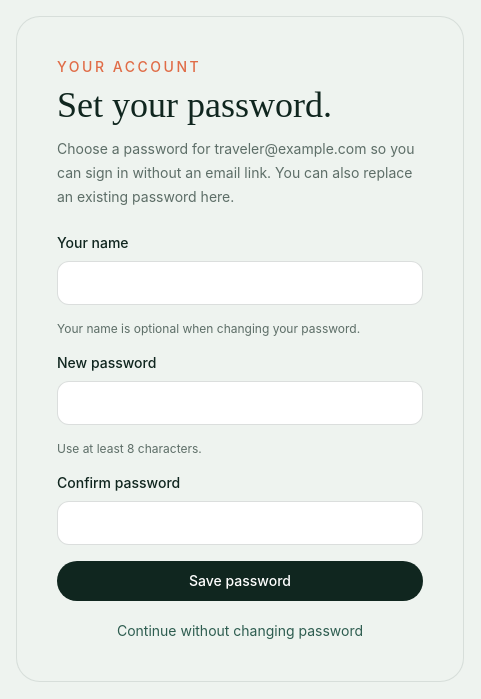
Test: saves matching passwords and offers the requested destination
The width and height of the screenshot is (481, 699).
Step 1. Type "Alex" into the field labelled "Your name" → (240, 283), box [57,261,423,305]
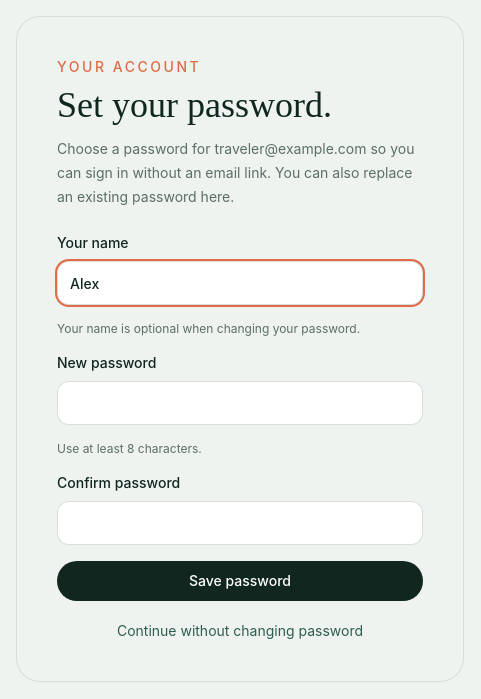
Step 2. Type "password123" into the password field labelled "New password" → (240, 403), box [57,381,423,425]
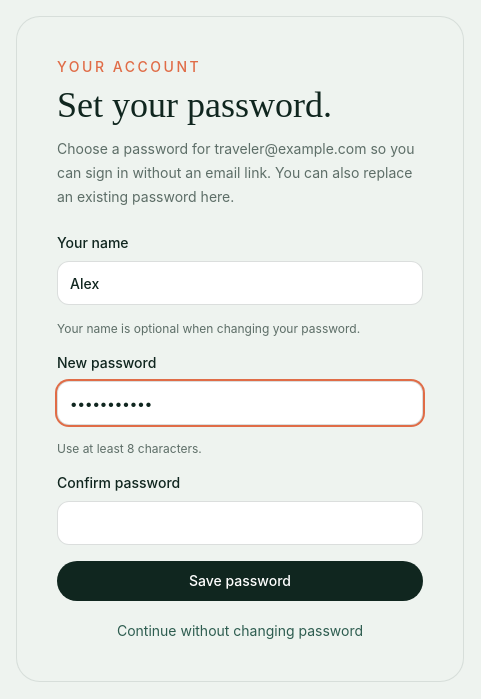
Step 3. Type "password123" into the password field labelled "Confirm password" → (240, 523), box [57,501,423,545]
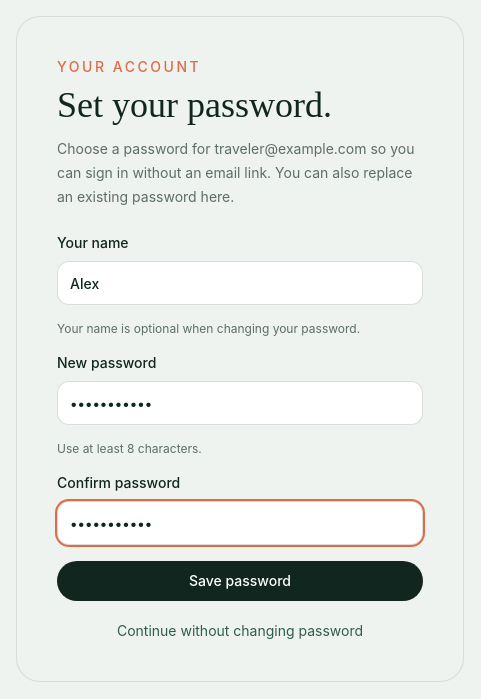
Step 4. Click the button "Save password" → (240, 581), box [57,561,423,601]
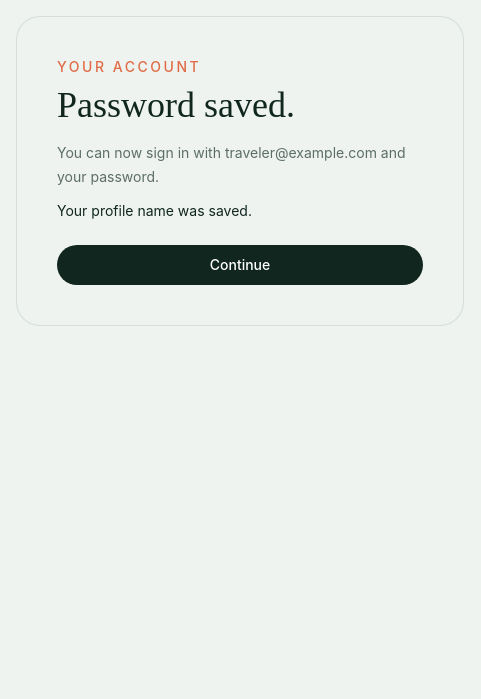
Now the heading "Password saved." is shown, box [57,85,295,125]
